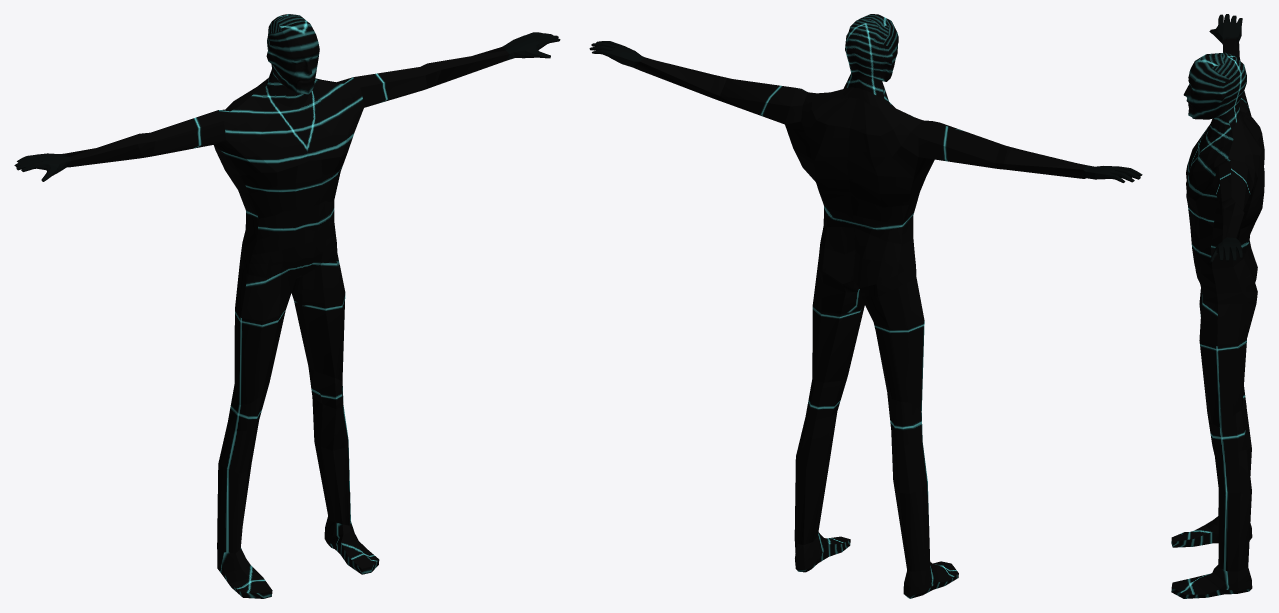
The model's file is testMeshMaterial4.glb.
3 views of the same model, side by side, from view 1: azimuth 30°, elevation 25°; view 2: azimuth 150°, elevation 25°; view 3: azimuth 270°, elevation 25° (orthographic). The views are drawn at different scales.
Visible parts, largest first — view 1: tronToon.001; view 2: tronToon.001; view 3: tronToon.001.
Boxes of the visible parts, left/top/right/bottom form: tronToon.001: left=14, top=14, right=560, bottom=598; tronToon.001: left=589, top=14, right=1142, bottom=598; tronToon.001: left=1171, top=14, right=1264, bottom=598.
Bounding box in the file's own units: 7.17 × 6.96 × 1.15.
1 material, 1 textured.
